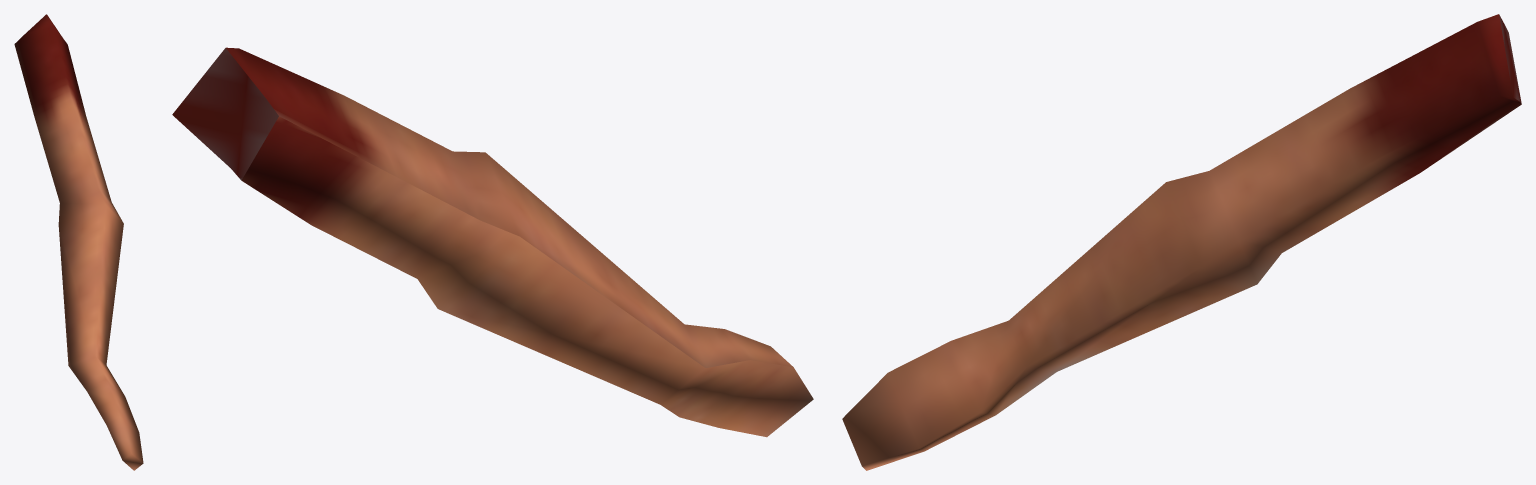
Rendered from ArmCard.fbx.
The picture shows the model from 3 angles, left to right: view 1: azimuth 30°, elevation 25°; view 2: azimuth 150°, elevation 25°; view 3: azimuth 270°, elevation 25°; orthographic projection. The views are drawn at different scales.
Visible parts, largest first — view 1: Cube.066; view 2: Cube.066; view 3: Cube.066.
Boxes of the visible parts, box(x1,y1,x2,y2) form: Cube.066: box(14, 14, 143, 470); Cube.066: box(172, 47, 813, 437); Cube.066: box(842, 14, 1521, 470).
Size of the model in its own units: 128 by 277 by 318.
